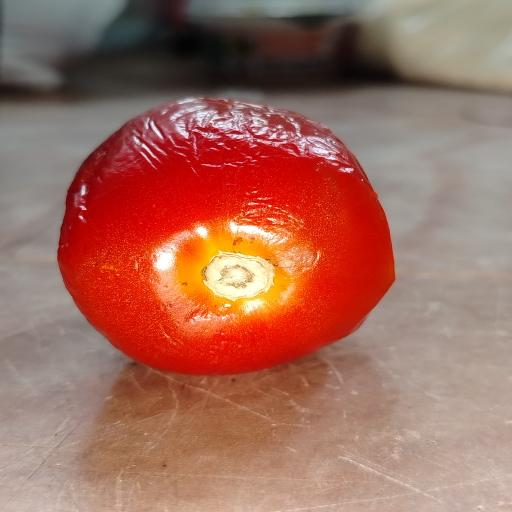spoiled: (58, 98, 394, 374)
